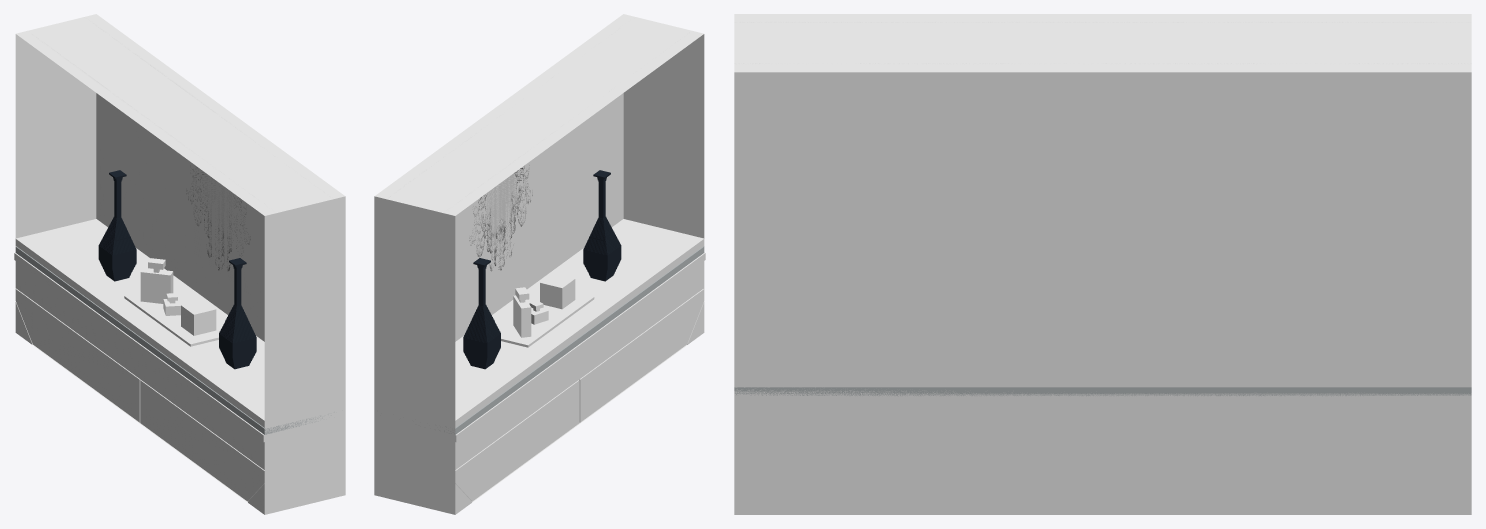
Rendered from quorras_dresser.obj.
3 renders of one model, left to right at view 1: azimuth 30°, elevation 25°; view 2: azimuth 150°, elevation 25°; view 3: azimuth 270°, elevation 25°, orthographic. The views are drawn at different scales.
Visible parts, largest first — view 1: cube.061, cube.065, cube.111, cube.064, cube.071, cube.069, cube.070, cube.068, cube, cube.062, cube.079, cube.121 (+11 smaller); view 2: cube.065, cube.061, cube.111, cube.059, cube.071, cube.068, cube.069, cube.070, cube, cube.066, cube.079, cube.121 (+13 smaller); view 3: cube.063, cube.059, cube.060, cube.064, cube.079, cube.068, cube.069, cube.070, cube.071, cube.121, cube.112, cube.111 (+2 smaller).
Part boxes in pixels (left/top/right/bottom): cube.061: left=264, top=196, right=345, bottom=420; cube.065: left=15, top=34, right=96, bottom=238; cube.111: left=15, top=219, right=345, bottom=427; cube.064: left=96, top=93, right=179, bottom=278; cube.071: left=15, top=261, right=345, bottom=469; cube.069: left=99, top=75, right=261, bottom=155; cube.070: left=182, top=135, right=344, bottom=215; cube.068: left=16, top=14, right=178, bottom=94; cube: left=185, top=158, right=252, bottom=296; cube.062: left=264, top=407, right=345, bottom=488; cube.079: left=32, top=301, right=140, bottom=422; cube.121: left=140, top=380, right=247, bottom=501; cube.065: left=374, top=196, right=455, bottom=420; cube.061: left=623, top=34, right=704, bottom=238; cube.111: left=374, top=219, right=704, bottom=427; cube.059: left=540, top=93, right=623, bottom=278; cube.071: left=375, top=261, right=704, bottom=469; cube.068: left=375, top=135, right=537, bottom=215; cube.069: left=458, top=75, right=620, bottom=155; cube.070: left=541, top=14, right=703, bottom=94; cube: left=467, top=158, right=534, bottom=296; cube.066: left=374, top=407, right=455, bottom=488; cube.079: left=472, top=380, right=579, bottom=501; cube.121: left=579, top=301, right=687, bottom=422; cube.063: left=734, top=375, right=1471, bottom=514; cube.059: left=734, top=72, right=979, bottom=375; cube.060: left=980, top=72, right=1225, bottom=375; cube.064: left=1226, top=72, right=1471, bottom=375; cube.079: left=1104, top=450, right=1420, bottom=513; cube.068: left=1226, top=14, right=1471, bottom=72; cube.069: left=980, top=14, right=1225, bottom=72; cube.070: left=734, top=14, right=979, bottom=72; cube.071: left=734, top=407, right=1471, bottom=448; cube.121: left=785, top=450, right=1101, bottom=494; cube.112: left=734, top=387, right=1471, bottom=396; cube.111: left=734, top=375, right=1471, bottom=386.
Size of the model in its own units: 0.5703 by 1.99 by 3.
